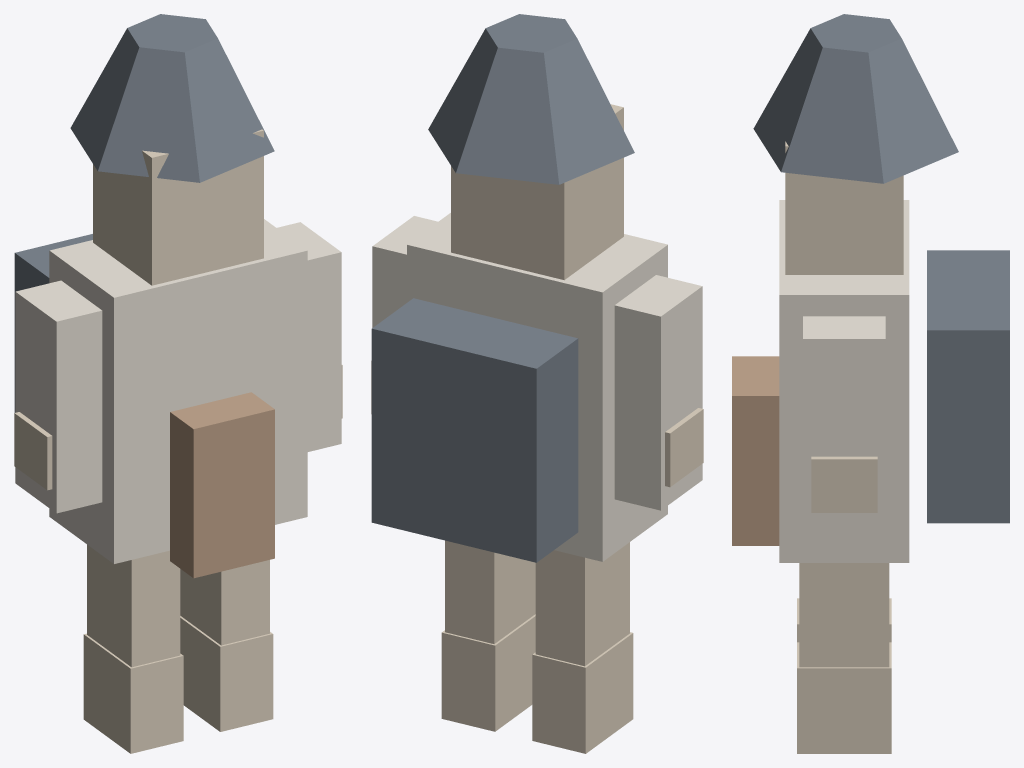
Rendered from unit-ranger.glb.
The picture shows the model from 3 angles, left to right: view 1: azimuth 30°, elevation 25°; view 2: azimuth 150°, elevation 25°; view 3: azimuth 270°, elevation 25°; orthographic projection.
Visible parts, largest first — view 1: unit-ranger; view 2: unit-ranger; view 3: unit-ranger.
Boxes of the visible parts, x1,y1,x2,y2 form: unit-ranger: (14,14,342,753); unit-ranger: (371,14,703,753); unit-ranger: (732,14,1009,753).
Size of the model in its own units: 0.29 by 0.64 by 0.235.
